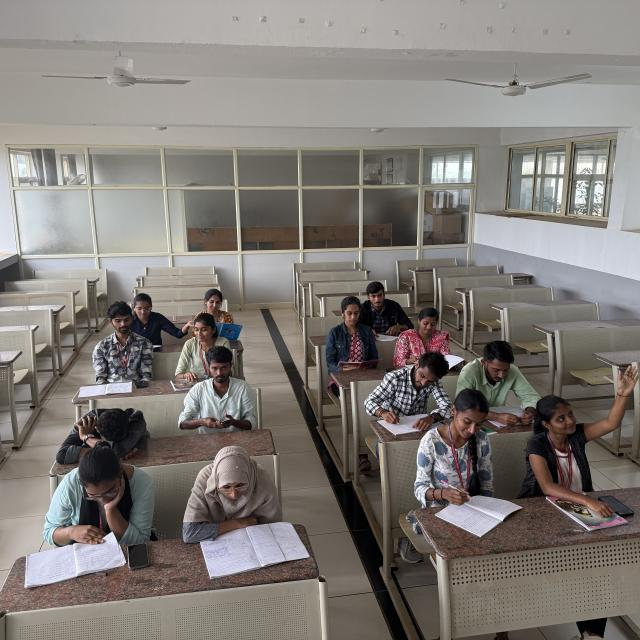Hand Rising: (528, 365, 640, 476)
Reading: (184, 444, 291, 559), (40, 444, 130, 564), (458, 340, 541, 425), (81, 300, 138, 394), (396, 306, 466, 372), (325, 296, 382, 371), (360, 278, 409, 341), (196, 289, 242, 343)
Sleeping: (52, 407, 154, 459)
Using Phone: (177, 347, 256, 430), (180, 315, 232, 382)
Writing: (416, 389, 498, 512), (366, 352, 451, 434)
